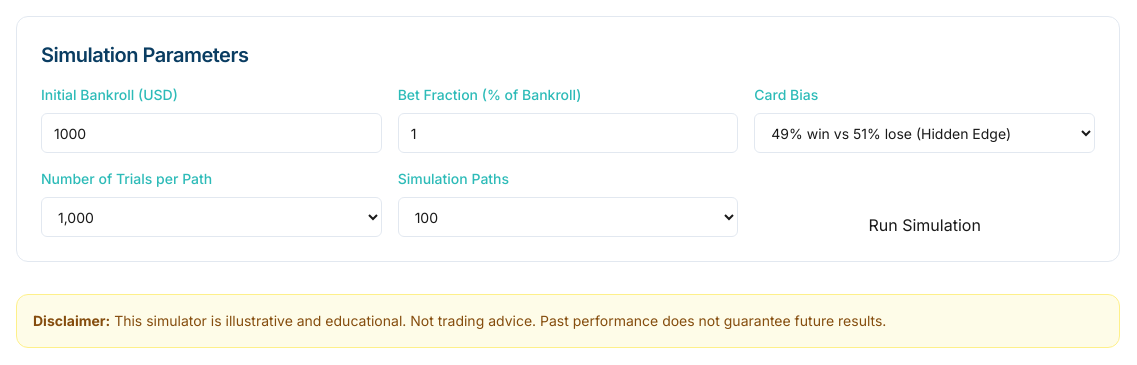
Test: CorruptCasinoSimulator › validates input ranges
Replace the text in the number field labelled "Bet Fraction (% of Bankroll)" with "150" at (568, 133), box [398,113,738,153]
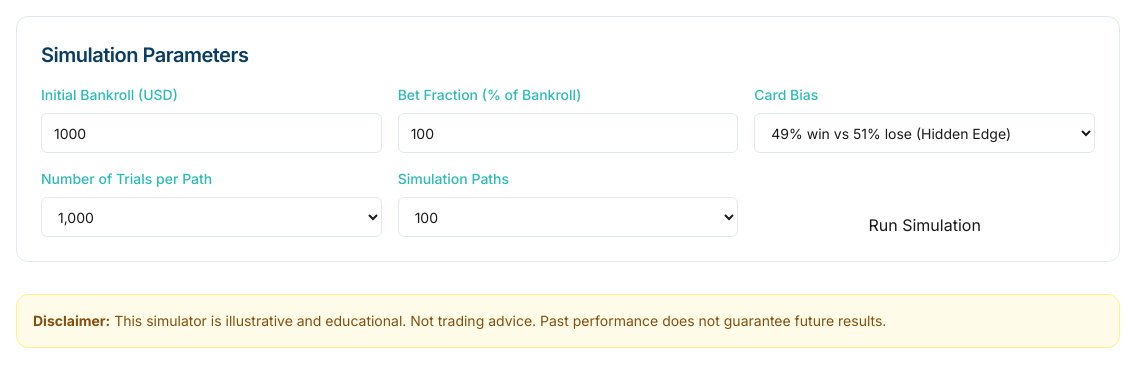
Expected: the number field labelled "Bet Fraction (% of Bankroll)" holds "100", [398,113,738,153]
